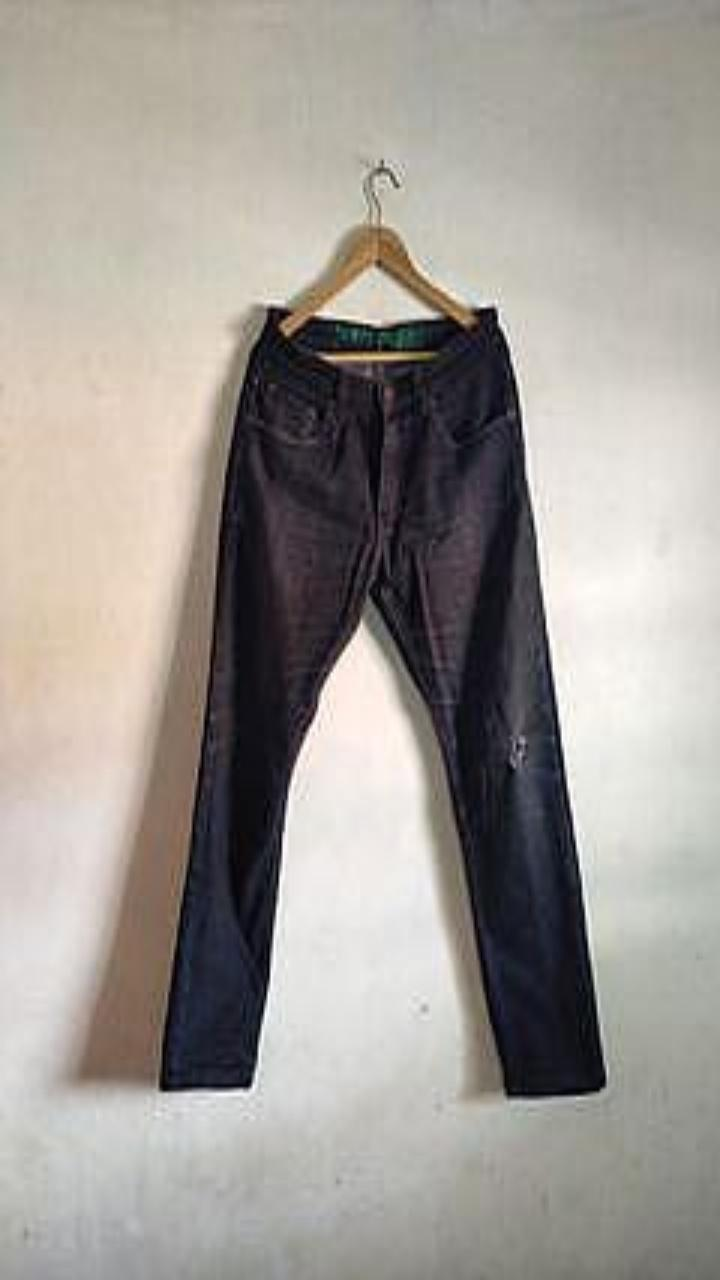Jeans: (160, 305, 605, 1095)
